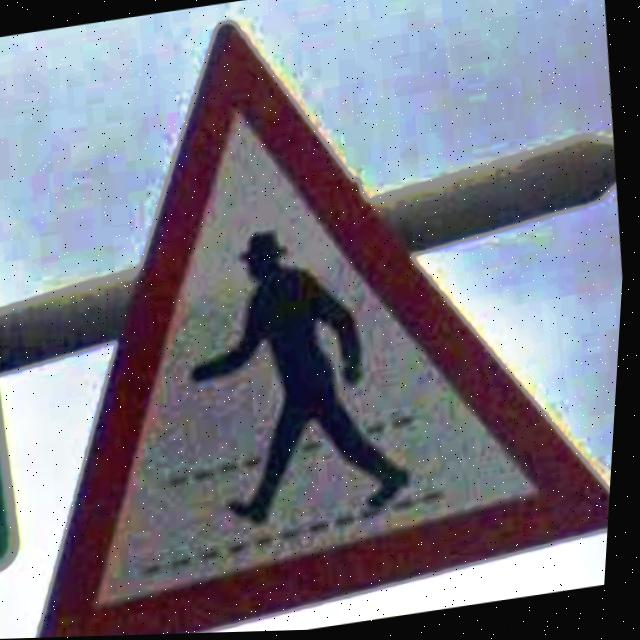pedestriancross: (46, 23, 616, 638)
